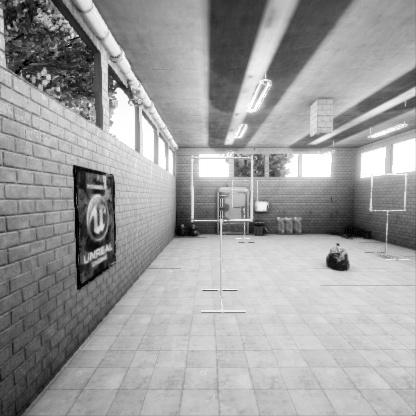gate: (192, 197, 256, 261), (374, 206, 413, 243), (232, 209, 259, 236)
